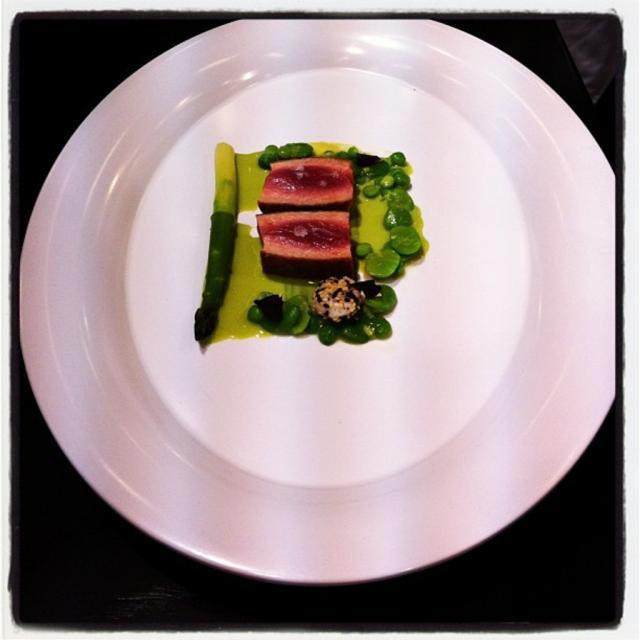ceramic plate: (25, 17, 640, 583)
